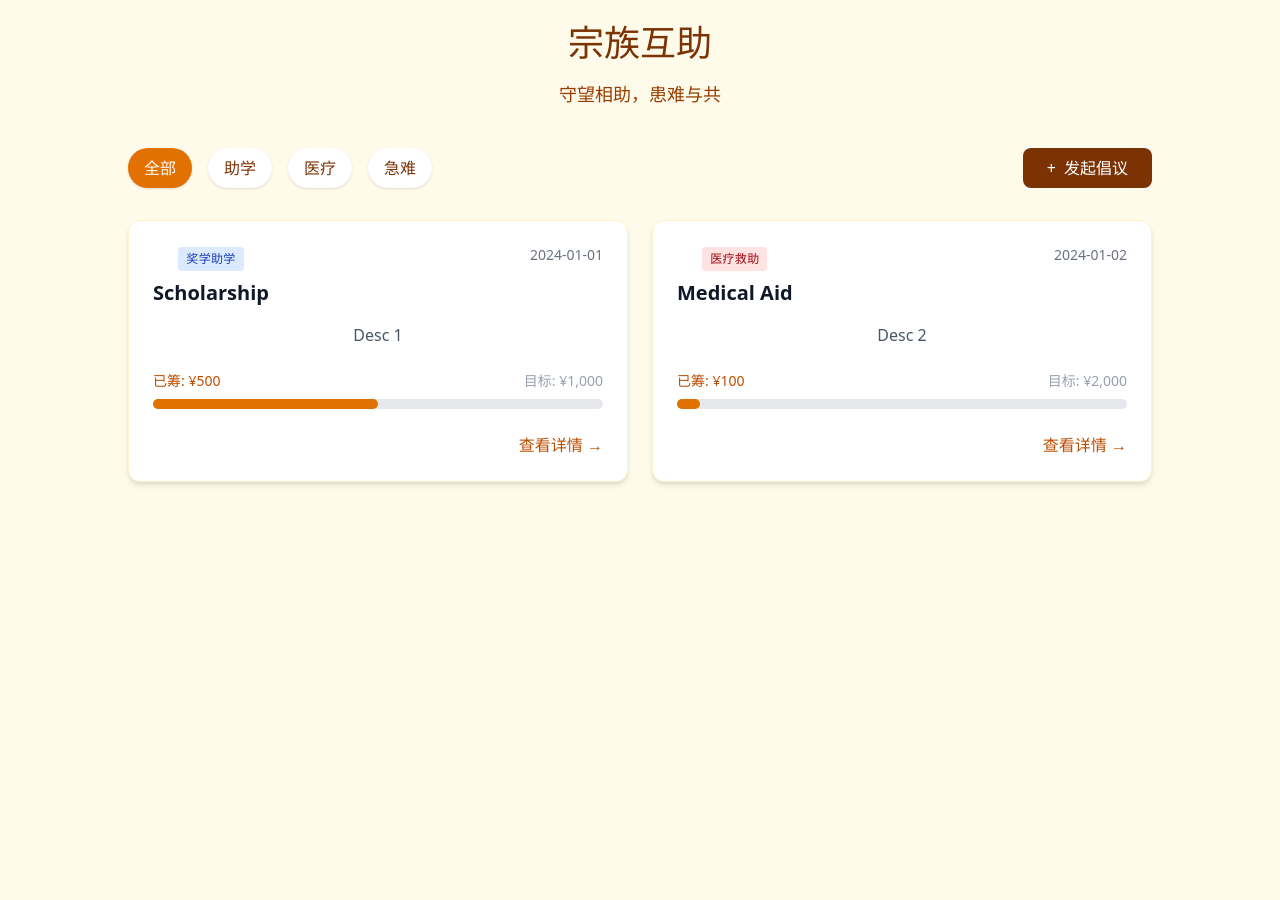
Test: MutualAid.vue › opens create modal and submits form
// Click create button
Click the button "+ 发起倡议" at (1087, 168), box [1023, 148, 1152, 188]
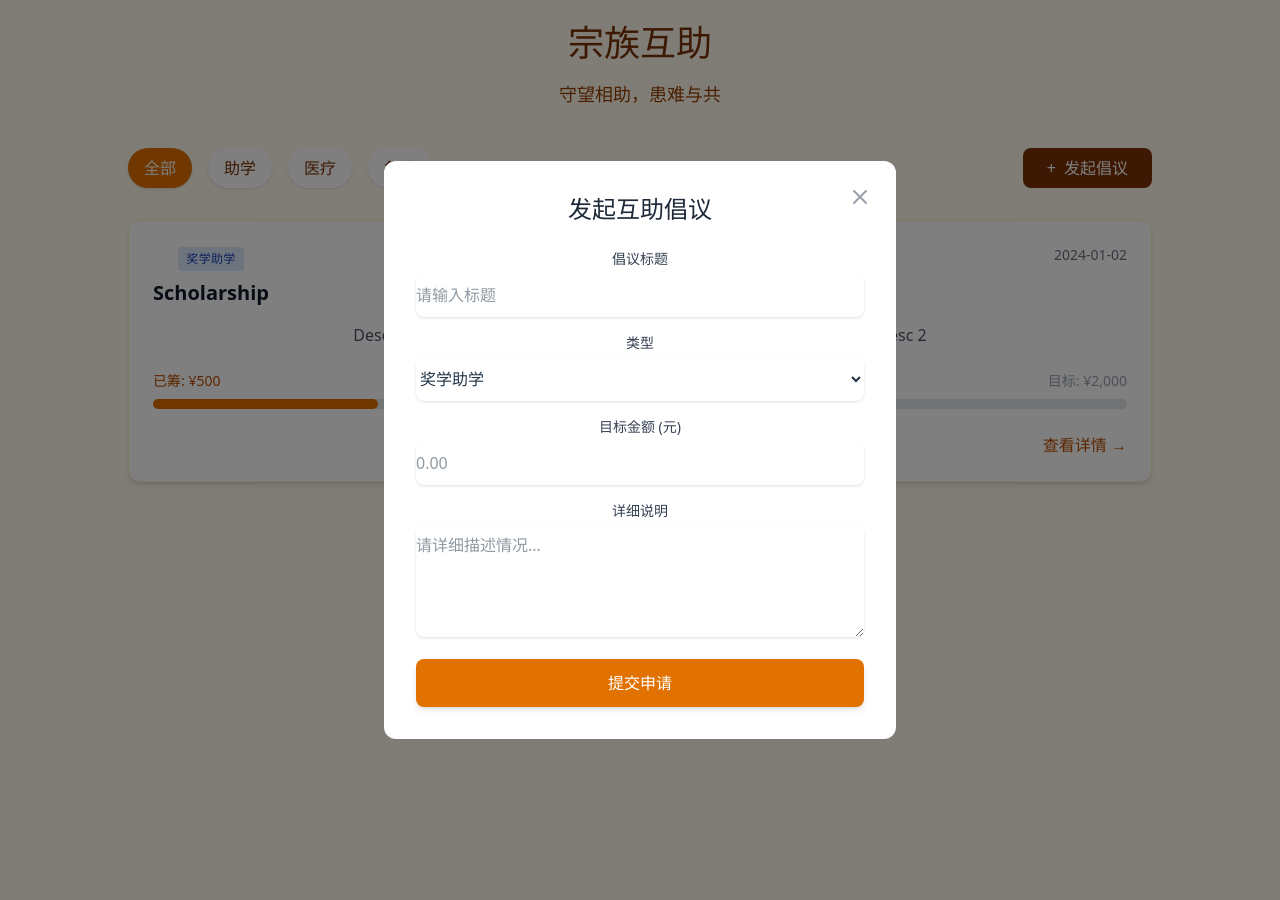
Type "New Initiative" into the field with placeholder "请输入标题" at (640, 295), box [416, 273, 864, 317]
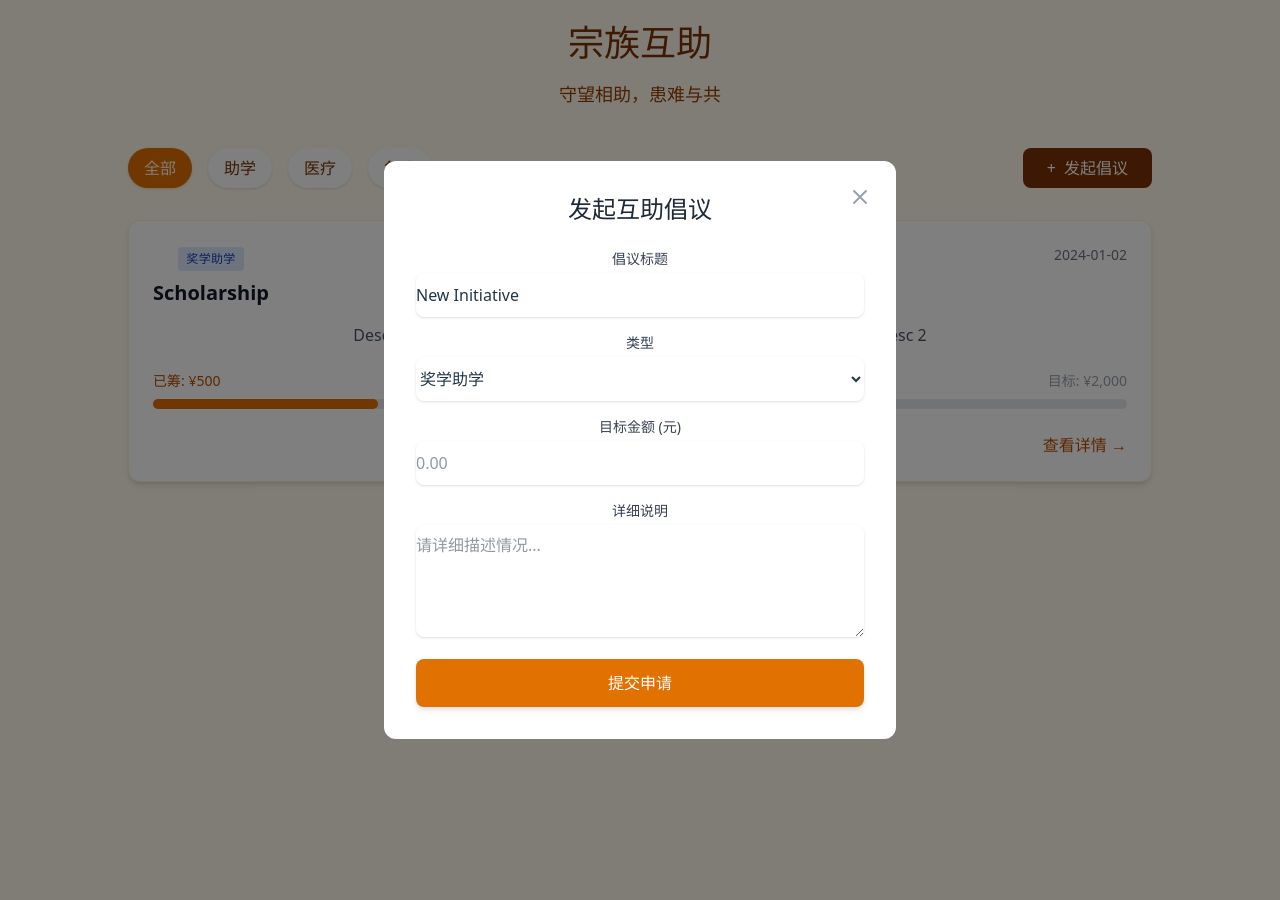
Type "5000" into the number field with placeholder "0.00" at (640, 463), box [416, 441, 864, 485]
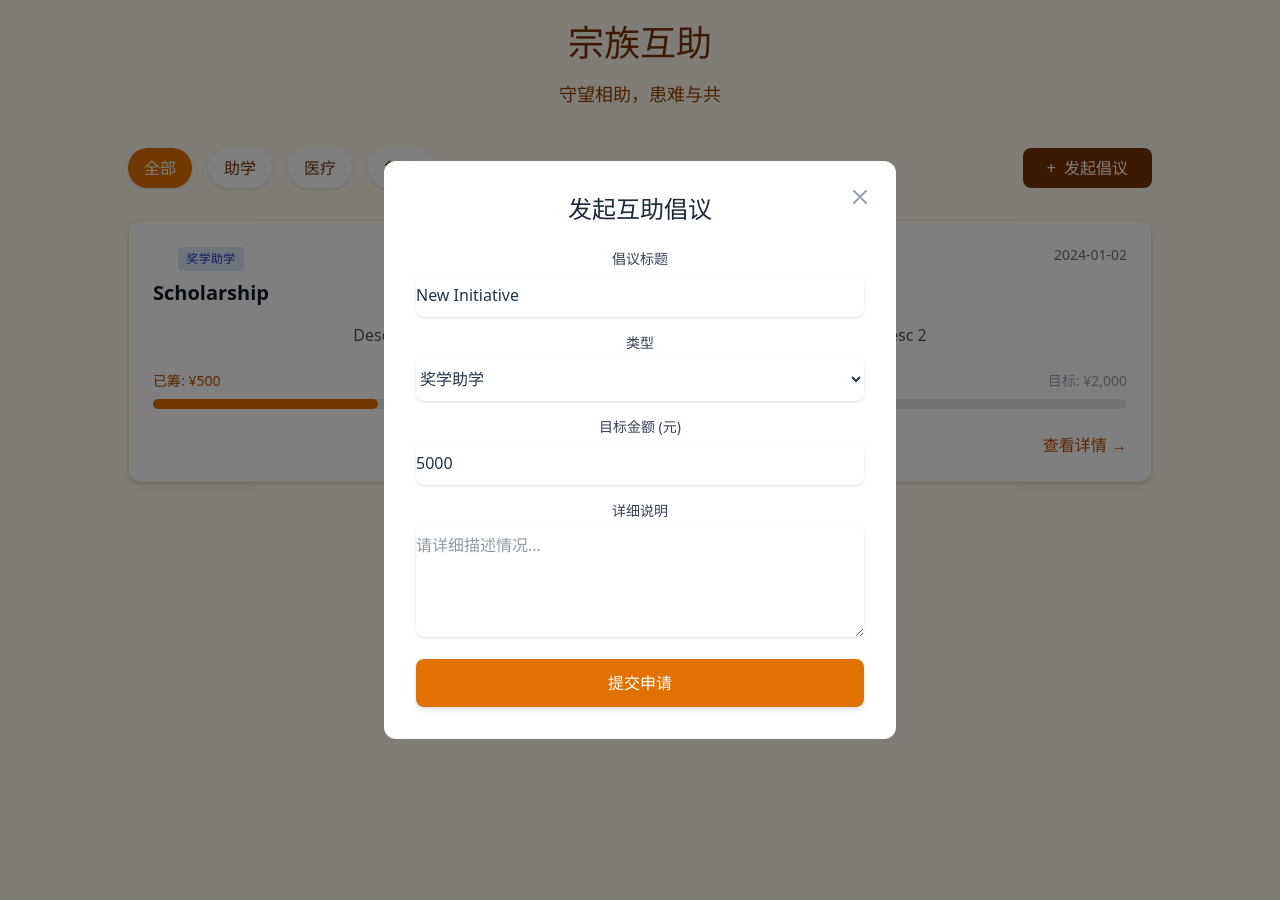
Type "Help needed" into the text box with placeholder "请详细描述情况..." at (640, 581), box [416, 525, 864, 637]
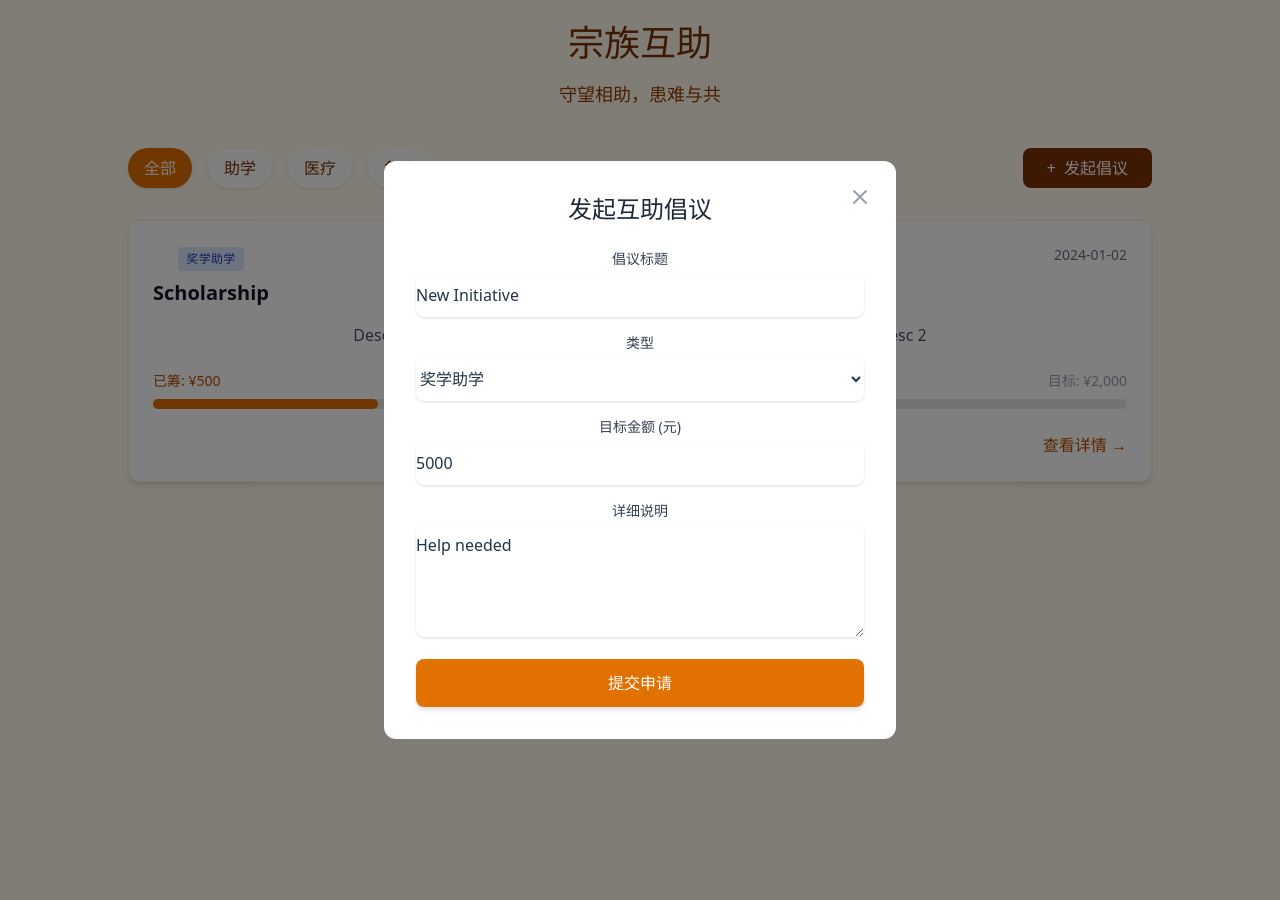
Submit the form, box [416, 249, 864, 707]
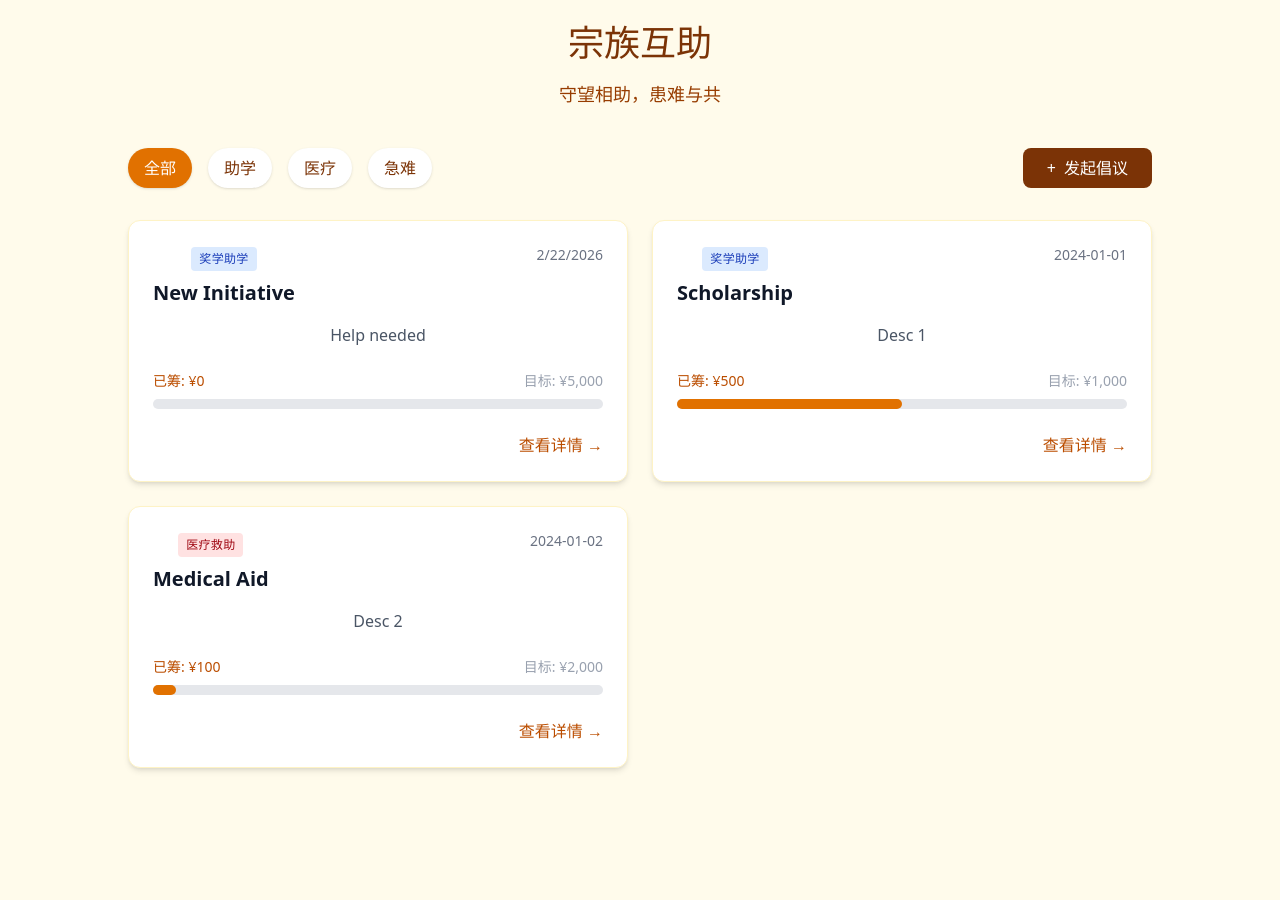
Result: the text "New Initiative" is shown at [153, 279, 295, 307]
